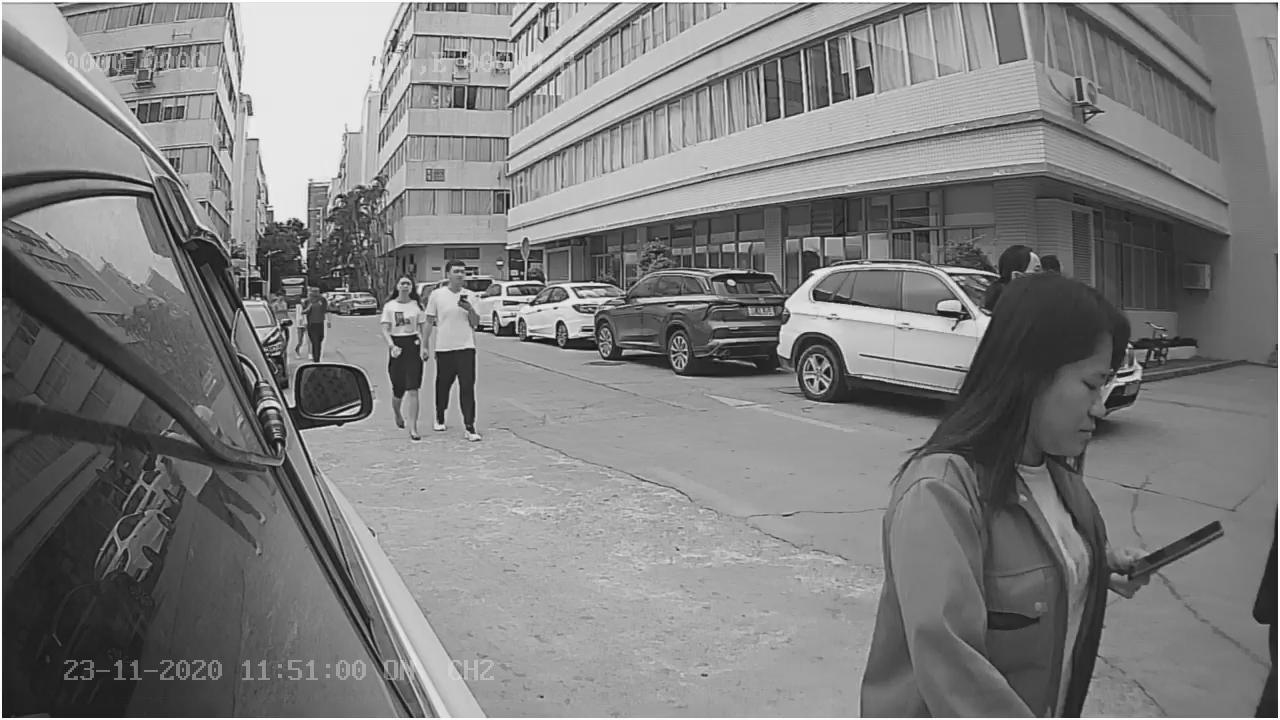person: (371, 270, 433, 443)
